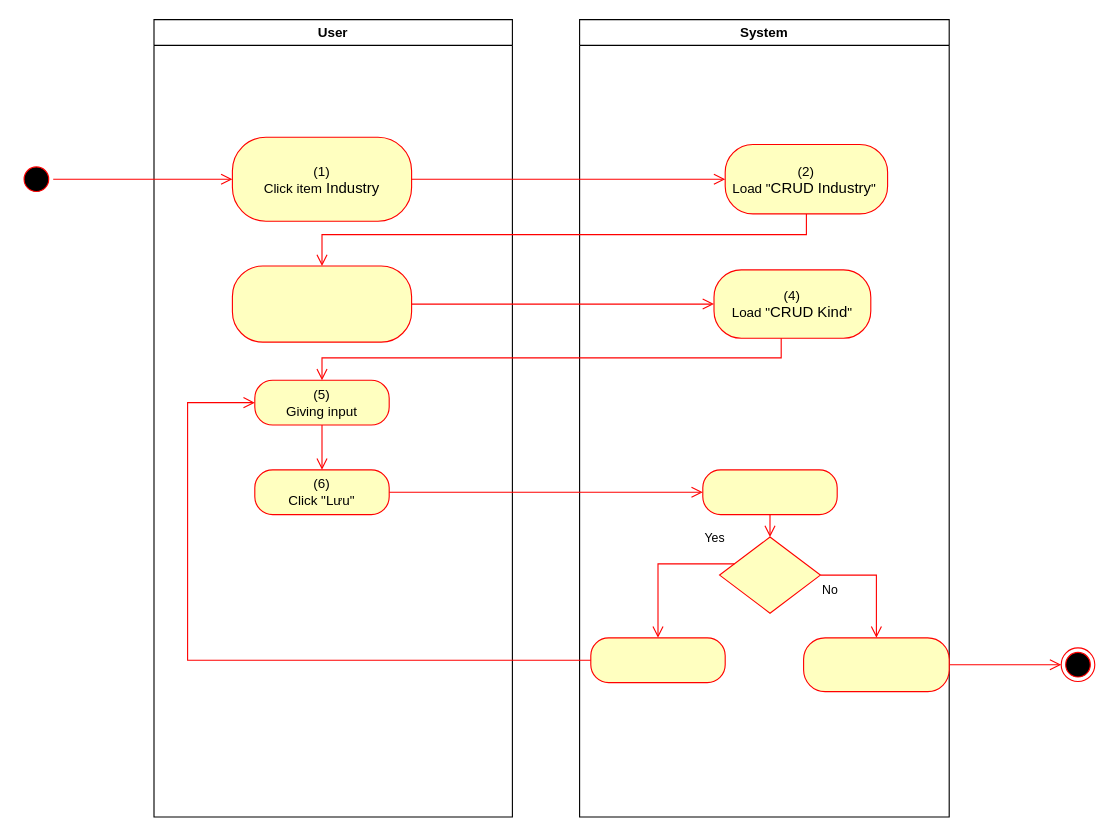
Some shapes in this 1114 by 837 pixel diagram are drawn without their labels. The centre of each missing label's shape, as x and y in pixels:
(3) Click button " chỉnh sửa" on item Industry: [321,303]
(7) Validate: [769,492]
(7.1) Show MSG: [657,660]
(7.2) update Accounting Profession to UI: [875,664]
